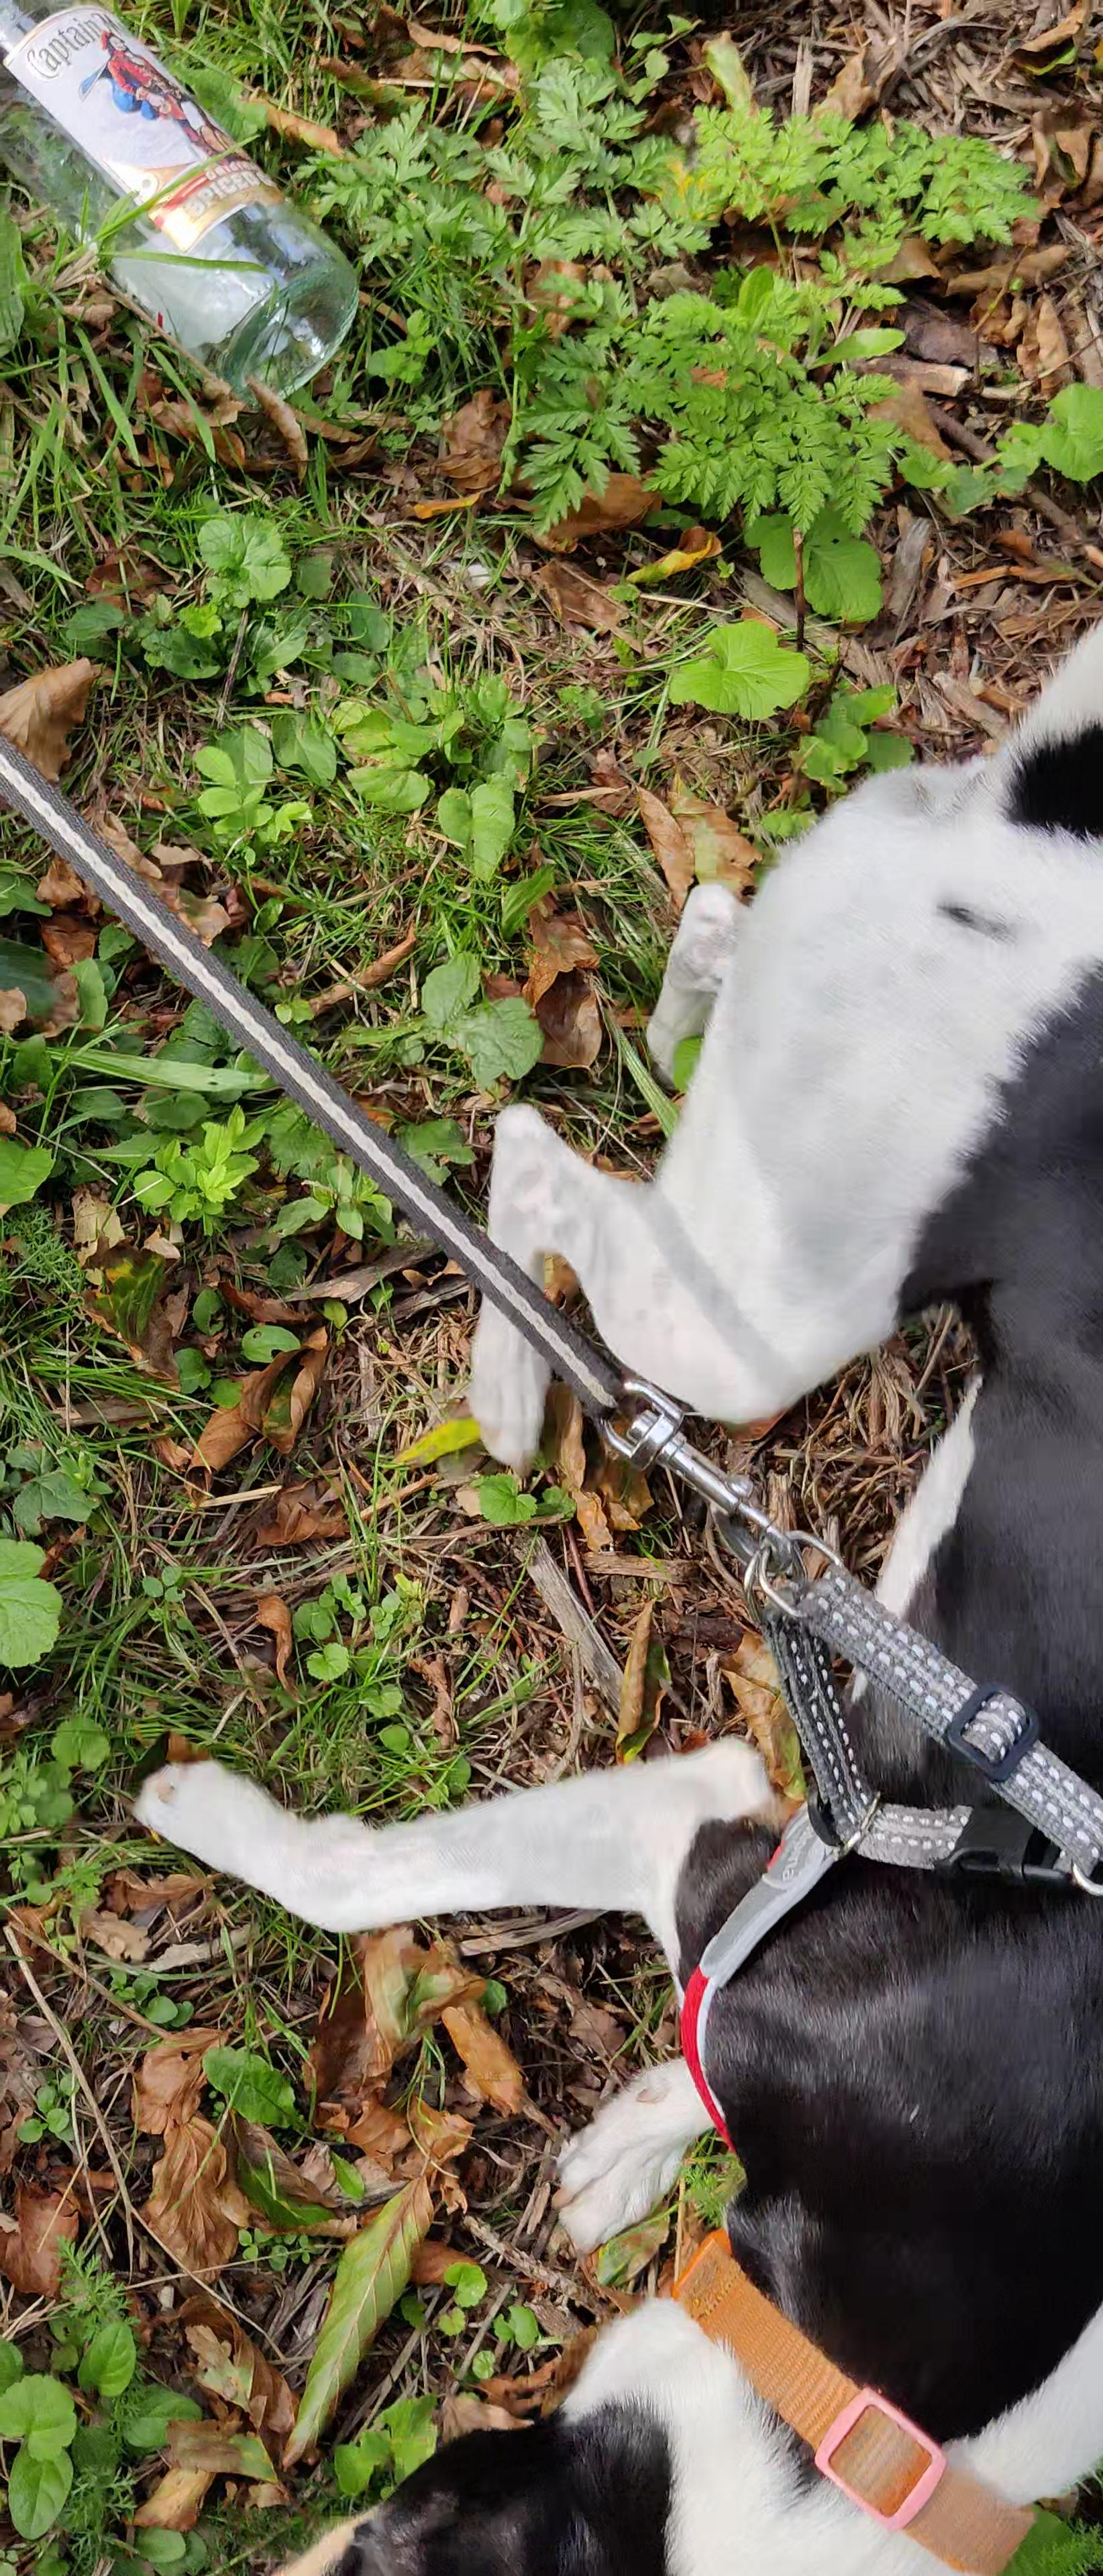Dog: (130, 590, 1103, 2576)
